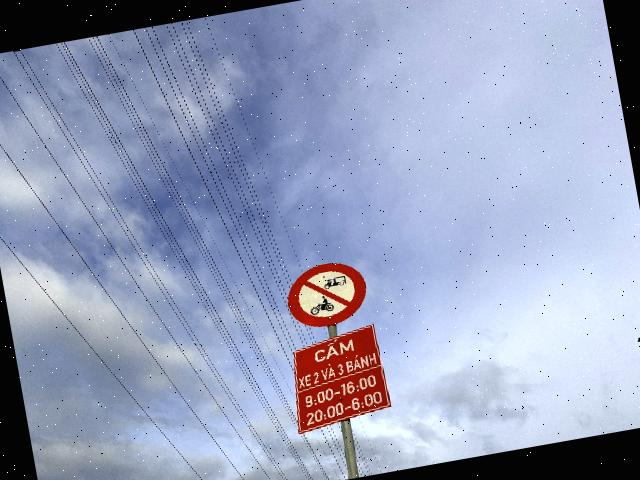cam-xe-2-banh-3-banh: (282, 256, 372, 332)
